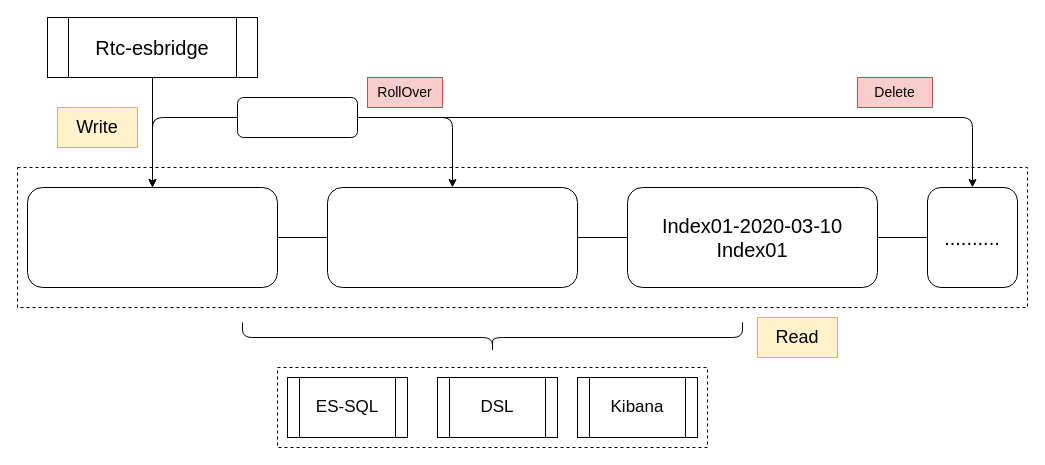
The diagram is 1045 pixels wide and 465 high, and some of its shapes have lost their labels. Here are the shapes that lost their labels. From the top down, the centre of each, then its label:
At (297,117): "Index Maintain".
At (152,237): "Index01-2020-05-10 Index01$".
At (452,237): "Index01-2020-04-10 Index01".
